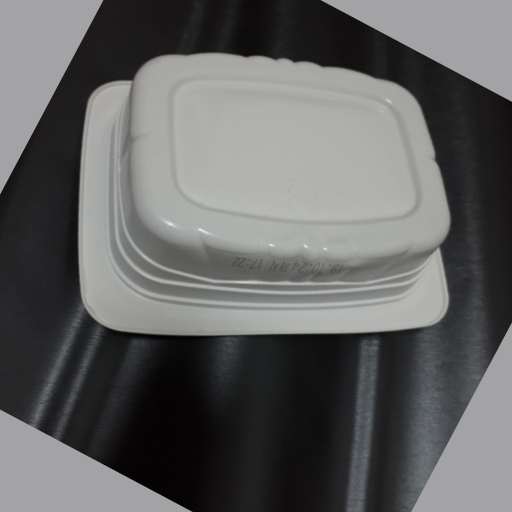Plastic_4: (74, 50, 452, 348)
